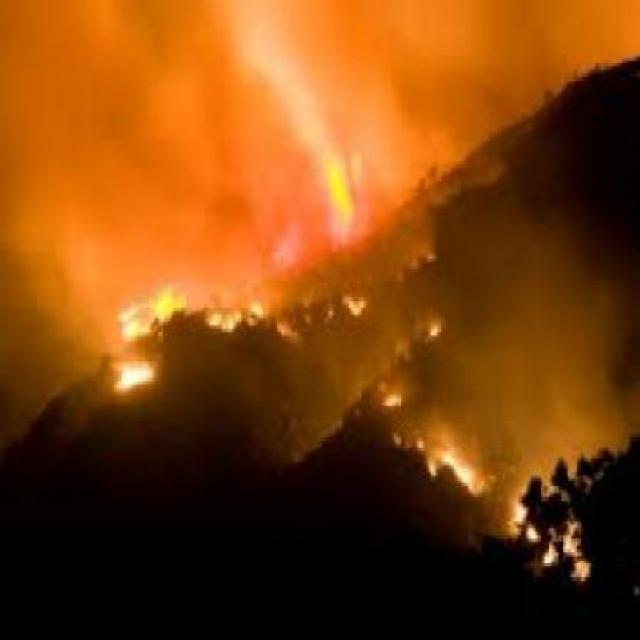Fire: (342, 404, 596, 590), (30, 269, 283, 440), (296, 103, 382, 319)
Smoke: (4, 3, 242, 247)
